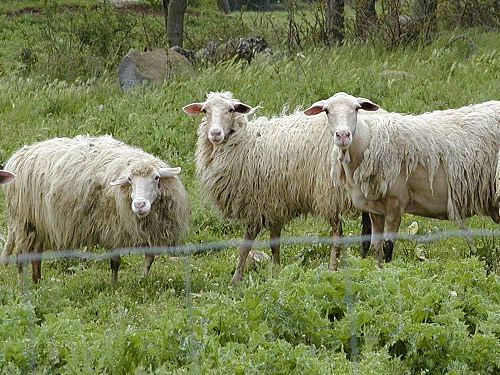koyun: (294, 83, 429, 217), (82, 152, 182, 243), (184, 87, 270, 169)
